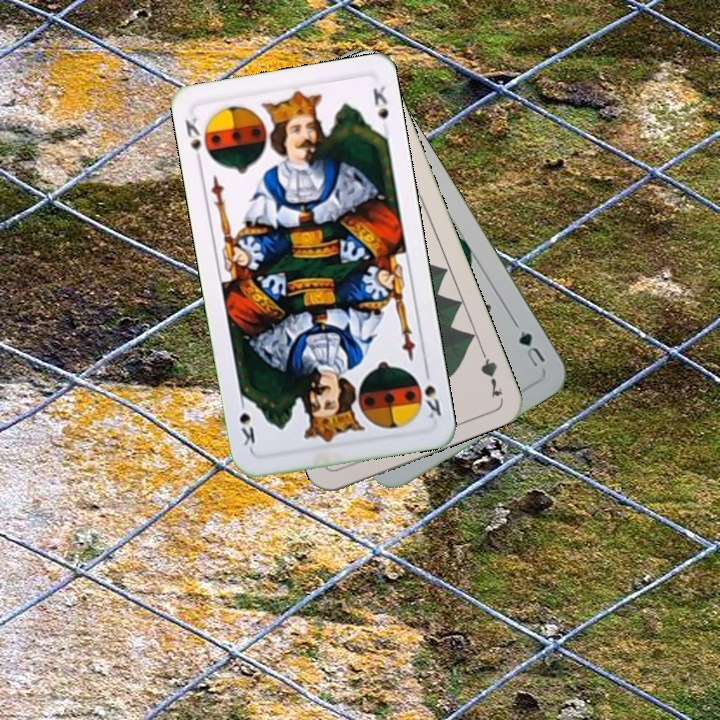G7: (475, 342, 505, 401)
GU: (514, 326, 548, 370)
SK: (411, 364, 444, 421), (181, 113, 205, 168)
